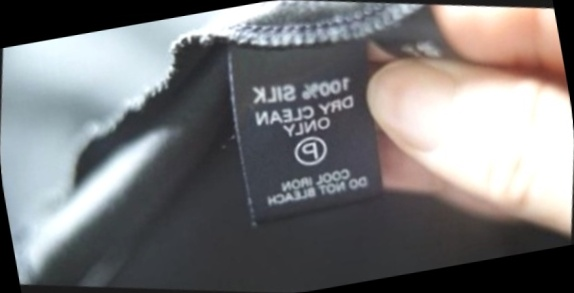dry_clean_any_solvent_except_trichloroethylene: (283, 125, 336, 176)
